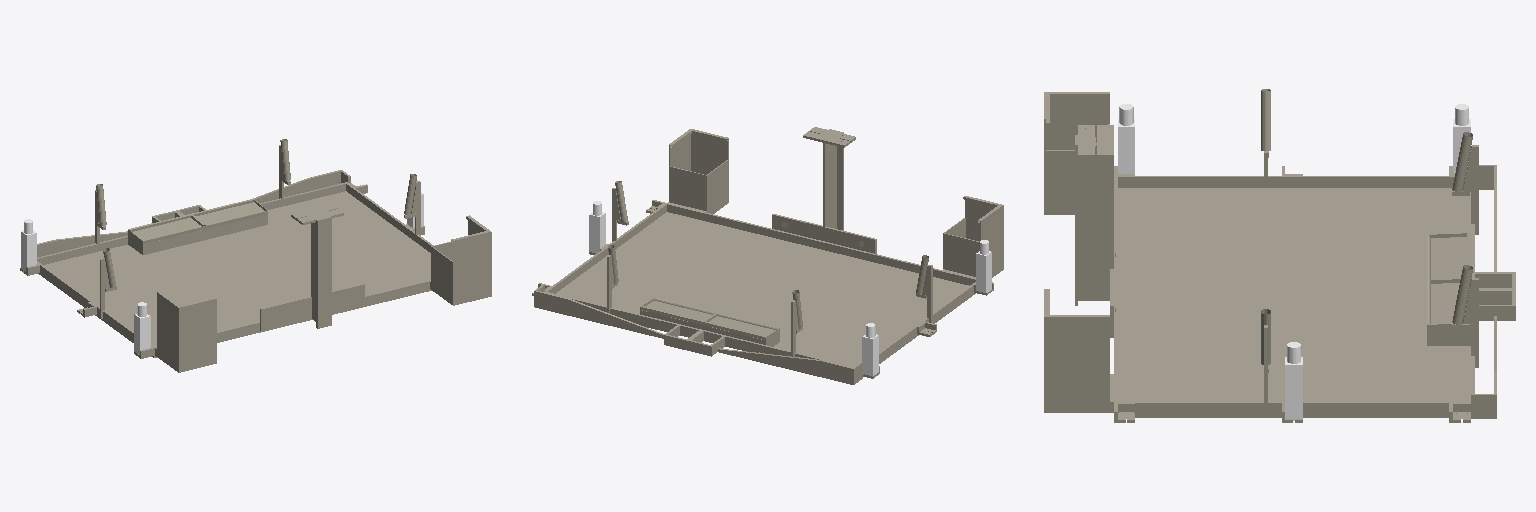
robot.urdf — field:
<?xml version="1.0"?>
<robot name="field">
    <material name="Grey">
 <color rgba=".99 .98 .88 1"/>
  </material>
  <material name="White">
    <color rgba="1 1 1 1"/>
  </material>

  <link
    name="table">
    <inertial>
      <origin
        xyz="1.5 1.0647 -0.0033004"
        rpy="0 0 0" />
      <mass
        value="165.19" />
      <inertia
        ixx="13.61"
        ixy="-1.3214E-14"
        ixz="-4.0492E-15"
        iyy="113.31"
        iyz="-0.4109"
        izz="126.82" />
    </inertial>
    <visual>
      <origin
        xyz="0 0 -0.015"
        rpy="0 0 0" />
      <geometry>
        <mesh
          filename="package://eurobot_sim/models/table.stl.stl" />
      </geometry>
      <material
        name="grey">
        <color
          rgba="0.71 0.69 0.63 1" />
      </material>
    </visual>
    <!--collision>
      <origin
        xyz="0 0 0"
        rpy="0 0 0" />
      <geometry>
        <mesh
          filename="package://eurobot_sim/models/table.STL" />
      </geometry>
    </collision-->
  </link>

  <!--link name="table">
     <visual>
       <origin xyz="1.5 1.0 -0.011" rpy="0 0 0" />
       <geometry>
         <box size="3.044 2.044 0.022" />
       </geometry>
       <material name="Grey"/>
     </visual>
     <collision>
       <origin xyz="1.5 1.0 -0.01" rpy="0 0 0"/>
       <geometry>
         <box size="3.044 2.044 0.02" />
       </geometry>
     </collision>
     <visual>
       <origin xyz="-0.011 1.0 0.035" rpy="0 0 0" />
       <geometry>
         <box size="0.022 2.044 0.070" />
       </geometry>
       <material name="Grey"/>
     </visual>
     <collision>
       <origin xyz="-0.011 1.0 0.035" rpy="0 0 0"/>
       <geometry>
         <box size="0.022 2.044 0.070" />
       </geometry>
     </collision>
     <visual>
       <origin xyz="3.011 1.0 0.035" rpy="0 0 0" />
       <geometry>
         <box size="0.022 2.044 0.070" />
       </geometry>
       <material name="Grey"/>
     </visual>
     <collision>
       <origin xyz="3.011 1.0 0.035" rpy="0 0 0"/>
       <geometry>
         <box size="0.022 2.044 0.070" />
       </geometry>
     </collision>
     <visual>
       <origin xyz="1.5 -0.011 0.035" rpy="0 0 0" />
       <geometry>
         <box size="3.0 0.022 0.070" />
       </geometry>
       <material name="Grey"/>
     </visual>
     <collision>
       <origin xyz="1.5 -0.011 0.035" rpy="0 0 0"/>
       <geometry>
         <box size="3.0 0.022 0.070" />
       </geometry>
     </collision>
     <visual>
       <origin xyz="1.5 2.011 0.035" rpy="0 0 0" />
       <geometry>
         <box size="3.0 0.022 0.070" />
       </geometry>
       <material name="Grey"/>
     </visual>
     <collision>
       <origin xyz="1.5 2.011 0.035" rpy="0 0 0"/>
       <geometry>
         <box size="3.0 0.022 0.070" />
       </geometry>
     </collision>
   </link-->

   <link name="beacons">
     <visual>
       <origin xyz="-.094 .05 .4" rpy="0 0 0" />
       <geometry>
         <cylinder length="0.1" radius="0.04"/>
       </geometry>
       <material name="White"/>
     </visual>
     <collision>
       <origin xyz="-.094 .05 .4" rpy="0 0 0"/>
       <geometry>
         <cylinder length="0.1" radius="0.04"/>
       </geometry>
     </collision>

     <visual>
       <origin xyz="-0.092 .05 .175" rpy="0 0 0" />
       <geometry>
         <box size=".1 .1 .35" />
       </geometry>
       <material name="White"/>
     </visual>


     <visual>
       <origin xyz="-.094 1.95 .4" rpy="0 0 0" />
       <geometry>
         <cylinder length="0.1" radius="0.04"/>
       </geometry>
       <material name="White"/>
     </visual>
     <collision>
       <origin xyz="-.094 1.95 .4" rpy="0 0 0"/>
       <geometry>
         <cylinder length="0.1" radius="0.04"/>
       </geometry>
     </collision>

     <visual>
       <origin xyz="-0.092 1.95 .175" rpy="0 0 0" />
       <geometry>
         <box size=".1 .1 .35" />
       </geometry>
       <material name="White"/>
     </visual>


     <visual>
       <origin xyz="3.094 1 .4" rpy="0 0 0" />
       <geometry>
         <cylinder length="0.1" radius="0.04"/>
       </geometry>
       <material name="White"/>
     </visual>
     <collision>
       <origin xyz="3.094 .5 .4" rpy="0 0 0"/>
       <geometry>
         <cylinder length="0.1" radius="0.04"/>
       </geometry>
     </collision>

     <visual>
       <origin xyz="3.092 1 .175" rpy="0 0 0" />
       <geometry>
         <box size=".1 .1 .35" />
       </geometry>
       <material name="White"/>
     </visual>

    </link>

    <joint name="table_to_beacons" type="fixed">
      <parent link="table"/>
      <child link="beacons"/>
    </joint>
</robot>

--- Render facts (derived) ---
The picture shows the robot from 3 angles, left to right: view 1: azimuth 30°, elevation 25°; view 2: azimuth 150°, elevation 25°; view 3: azimuth 270°, elevation 25°; orthographic projection.
Model field with 2 links and 1 joints (1 fixed), rooted at table, posed all joints at 0.
Links seen in each view (by area): view 1: table, beacons; view 2: table, beacons; view 3: table, beacons.
Link boxes in pixels (box(x1,y1,x2,y2)): table: box(20, 139, 491, 372); beacons: box(21, 180, 423, 354); table: box(532, 127, 1003, 384); beacons: box(589, 201, 991, 376); table: box(1044, 89, 1515, 422); beacons: box(1118, 104, 1470, 420).
Bounding box of the posed robot: 3.29 × 2.67 × 1.02 m (x, y, z).
1 mesh visuals loaded from 1 distinct referenced files (1 binary STL).